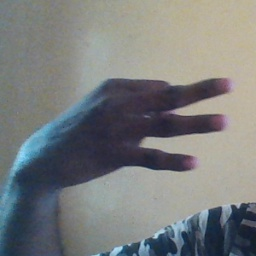K: (25, 77, 237, 172)
